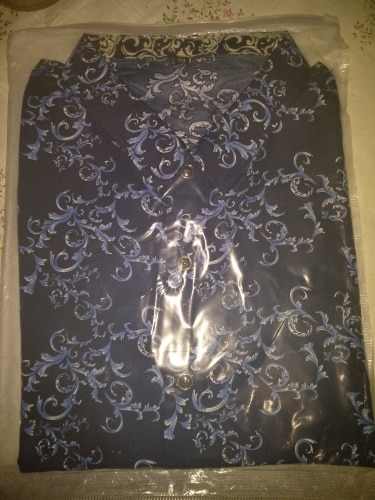shirts: (28, 35, 360, 465)
